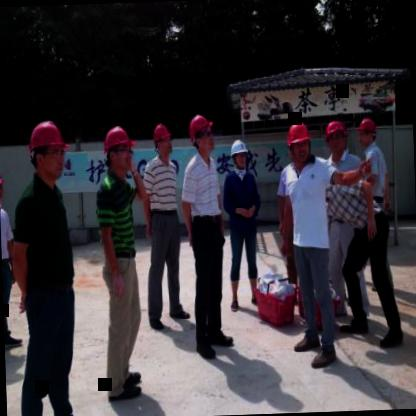helmet: (26, 116, 70, 185), (102, 122, 134, 178), (284, 118, 314, 168), (188, 112, 216, 153), (322, 120, 350, 160), (152, 119, 176, 160), (356, 114, 380, 148), (230, 137, 249, 174), (0, 166, 8, 210)
